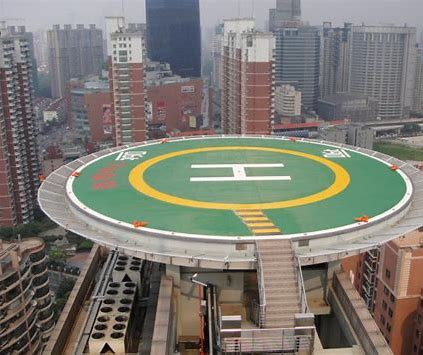H: (189, 164, 293, 181)
